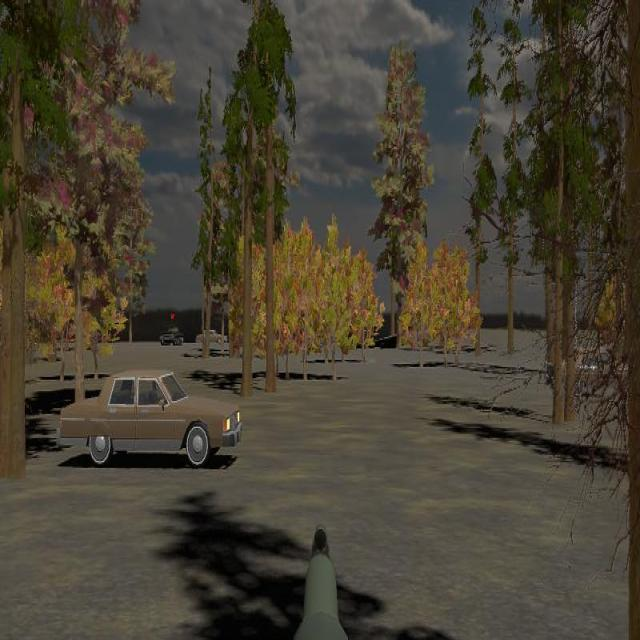Tank: (159, 324, 184, 347)
car: (58, 371, 244, 469)
